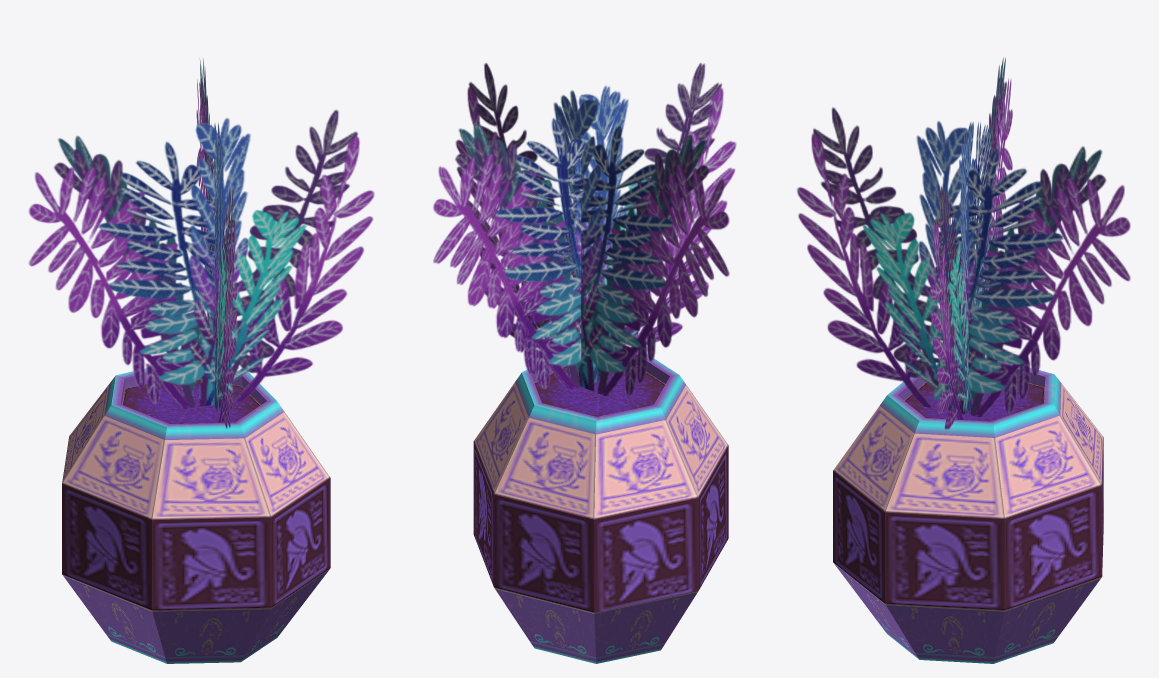
File: Pot_Vapor_01.glb
3 renders of one model, left to right at view 1: azimuth 30°, elevation 25°; view 2: azimuth 150°, elevation 25°; view 3: azimuth 270°, elevation 25°, orthographic. The views are drawn at different scales.
Parts seen in each view (by area): view 1: Pot_Vapor_01; view 2: Pot_Vapor_01; view 3: Pot_Vapor_01.
Part boxes in pixels (<box>): Pot_Vapor_01: <box>28,59,374,663</box>; Pot_Vapor_01: <box>433,62,736,663</box>; Pot_Vapor_01: <box>797,57,1130,663</box>.
Bounding box in the file's own units: 1.59 × 2.43 × 1.48.
2 materials, 2 textured.
